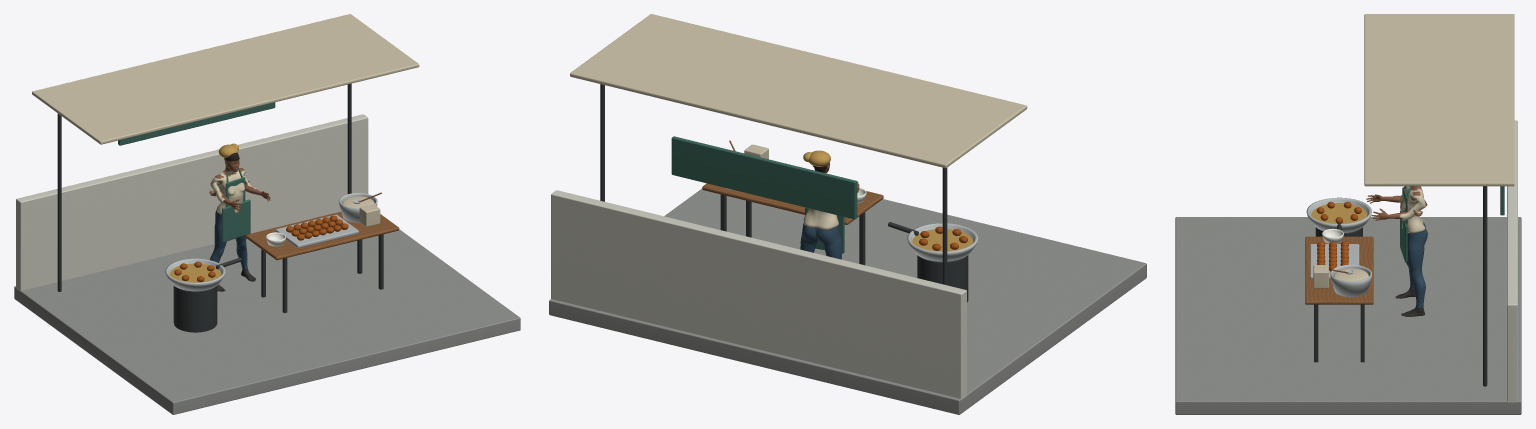
File: lagos-akara-vendor.glb
3 renders of one model, left to right at view 1: azimuth 30°, elevation 25°; view 2: azimuth 150°, elevation 25°; view 3: azimuth 270°, elevation 25°, orthographic. The views are drawn at different scales.
Parts seen in each view (by area): view 1: Vendor pavement, Rear wall, Vendor sunshade, Oak table top, Gas burner, Vendor sign, Apron skirt, Umbrella awning frame, Akara vendor / Short sleeve shirt, Bowl / open inner wall.002, Serving tray, Akara vendor / Trousers (+4 smaller); view 2: Rear wall, Vendor pavement, Vendor sunshade, Vendor sign, Oak table top, Gas burner, Bowl / open inner wall.002, Akara vendor / Trousers, Cooking oil, Umbrella awning frame, Umbrella awning frame.001, Akara vendor / Short sleeve shirt; view 3: Vendor pavement, Vendor sunshade, Rear wall, Oak table top, Akara vendor / Trousers, Umbrella awning frame.001, Bowl / open inner wall.002, Akara vendor / Short sleeve shirt, Bowl / open inner wall, Cooking oil, Serving tray, Akara vendor / Visible skin (+2 smaller).
Part boxes in pixels (bbox=[...]): Vendor pavement: bbox=[14, 229, 520, 414]; Rear wall: bbox=[16, 114, 368, 291]; Vendor sunshade: bbox=[32, 14, 419, 144]; Oak table top: bbox=[245, 211, 399, 260]; Gas burner: bbox=[173, 285, 217, 332]; Vendor sign: bbox=[118, 102, 275, 145]; Apron skirt: bbox=[222, 199, 250, 242]; Umbrella awning frame: bbox=[57, 113, 61, 291]; Akara vendor / Short sleeve shirt: bbox=[210, 169, 257, 214]; Bowl / open inner wall.002: bbox=[165, 258, 225, 291]; Serving tray: bbox=[275, 214, 358, 248]; Akara vendor / Trousers: bbox=[210, 210, 247, 269]; Rear wall: bbox=[551, 190, 966, 399]; Vendor pavement: bbox=[549, 188, 1146, 414]; Vendor sunshade: bbox=[570, 14, 1027, 168]; Vendor sign: bbox=[671, 136, 857, 219]; Oak table top: bbox=[702, 183, 883, 224]; Gas burner: bbox=[917, 255, 968, 302]; Bowl / open inner wall.002: bbox=[907, 223, 978, 261]; Akara vendor / Trousers: bbox=[800, 223, 842, 259]; Cooking oil: bbox=[912, 229, 972, 251]; Umbrella awning frame: bbox=[942, 167, 947, 285]; Umbrella awning frame.001: bbox=[600, 84, 604, 201]; Akara vendor / Short sleeve shirt: bbox=[803, 208, 838, 229]; Vendor pavement: bbox=[1175, 217, 1521, 414]; Vendor sunshade: bbox=[1364, 14, 1514, 186]; Rear wall: bbox=[1507, 120, 1517, 402]; Oak table top: bbox=[1305, 236, 1373, 304]; Akara vendor / Trousers: bbox=[1406, 223, 1427, 307]; Umbrella awning frame.001: bbox=[1483, 186, 1487, 386]; Bowl / open inner wall.002: bbox=[1306, 197, 1371, 233]; Akara vendor / Short sleeve shirt: bbox=[1393, 186, 1426, 233]; Bowl / open inner wall: bbox=[1330, 264, 1371, 297]; Cooking oil: bbox=[1311, 203, 1367, 223]; Serving tray: bbox=[1310, 244, 1359, 279]; Akara vendor / Visible skin: bbox=[1366, 186, 1427, 220].
Size of the model in its own units: 4.8 by 2.72 by 3.8.
16 materials, 4 textured.
